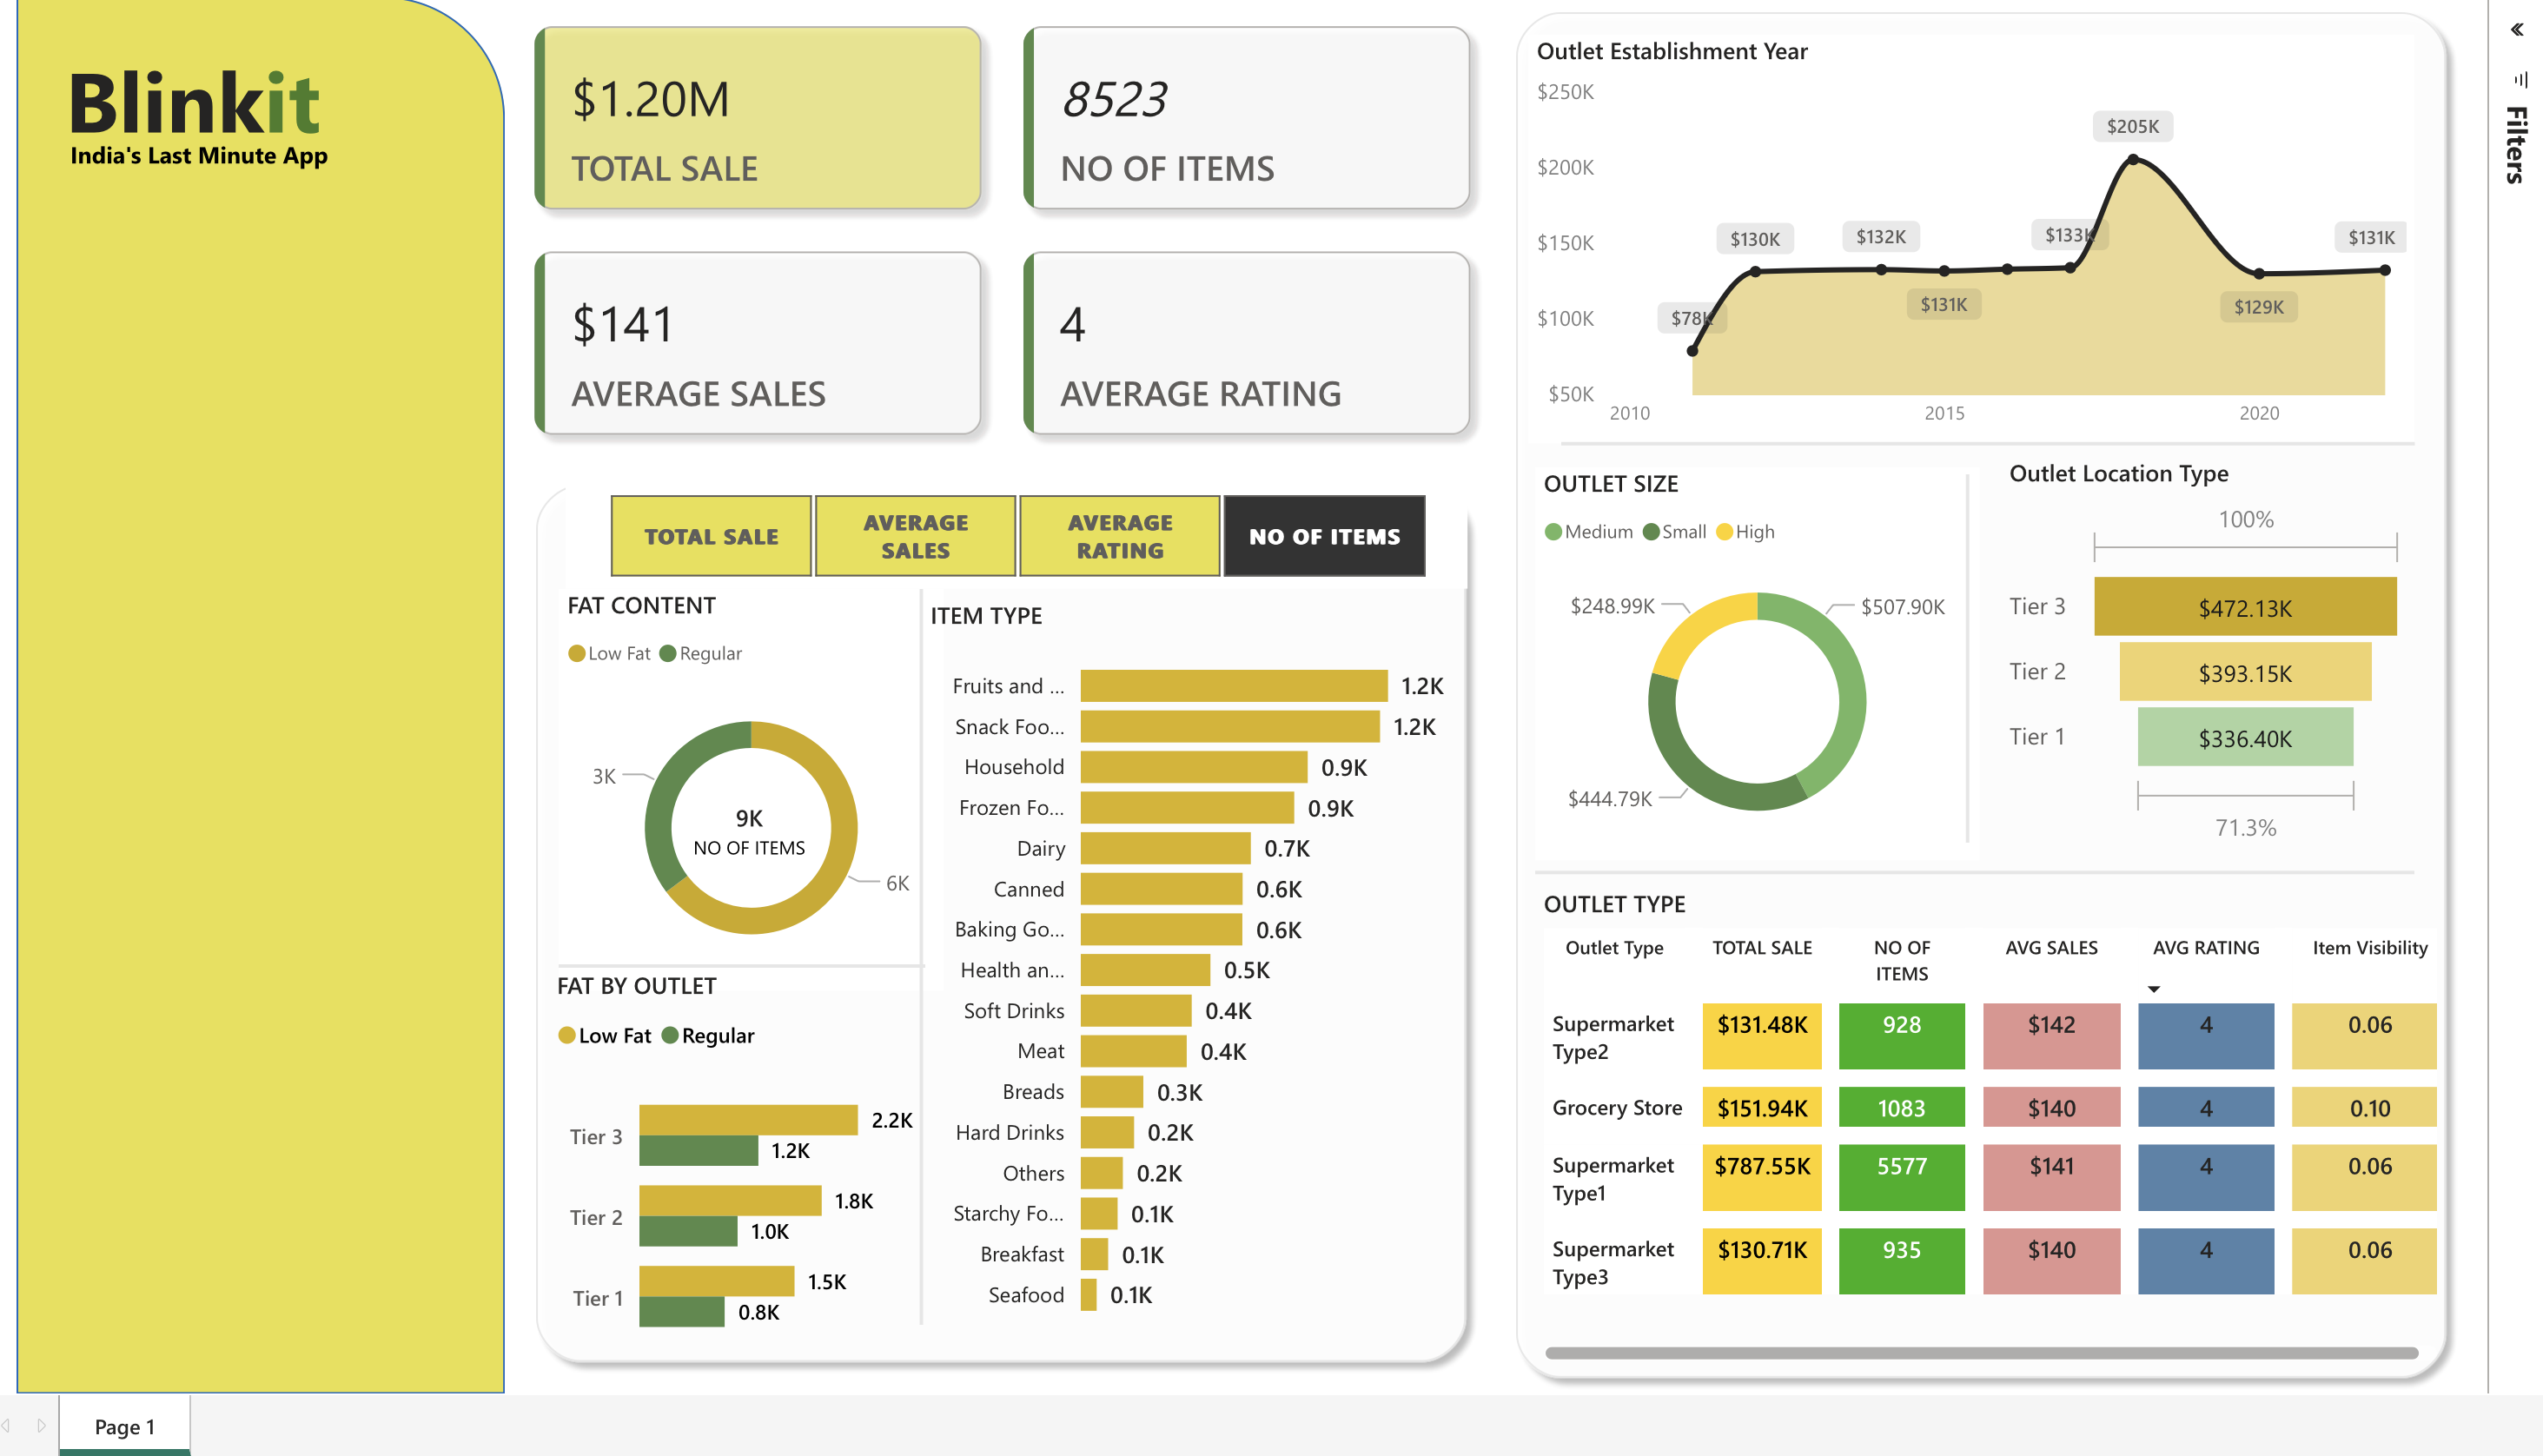

The page's visual inventory and layout, read from the dashboard file:
{"tool":"powerbi","page":{"name":"Page 1","canvas":[1400,800],"ordinal":0},"visuals":[{"type":"shape","box":[0,0,279.7,800.2],"z":0},{"type":"textbox","box":[22.6,21,190.8,130.9],"z":1000},{"type":"cardVisual","fields":{"Data":["Table.total sales","Table.NO OF ITEMS","Table.AVERAGE SALES","Table.AVERAGE RATING"]},"box":[279.7,0,570.7,270],"z":2000},{"type":"shape","box":[289,270.6,550.4,520.2],"z":3000},{"type":"donutChart","title":"FAT CONTENT","fields":{"Y":["Table.NO OF ITEMS"],"Category":["BlinkIT Grocery Data.Item Fat Content"]},"box":[310,338.9,220.7,230],"z":4000},{"type":"slicer","fields":{"Values":["Metrics.Metrics"]},"box":[314,278.5,516.3,60.4],"z":5000},{"type":"cardVisual","fields":{"Data":["Table.NO OF ITEMS"]},"box":[365.6,437.3,109.7,79.9],"z":6000},{"type":"clusteredBarChart","title":"FAT BY OUTLET","fields":{"Y":["Table.NO OF ITEMS"],"Category":["BlinkIT Grocery Data.Outlet Location Type"],"Series":["BlinkIT Grocery Data.Item Fat Content"]},"box":[304.8,557,220.7,229.9],"z":7000},{"type":"textbox","box":[22.3,76.2,165.5,44.7],"z":8000},{"type":"shape","box":[310,522.8,210.2,65.7],"z":9000},{"type":"shape","box":[492.6,338.9,51.2,421.7],"z":10000},{"type":"barChart","title":"ITEM TYPE","fields":{"Y":["Table.NO OF ITEMS"],"Category":["BlinkIT Grocery Data.Item Type"]},"box":[518.9,345.5,311.3,421.7],"z":11000},{"type":"shape","box":[849.9,0,550.4,800],"z":12000},{"type":"lineChart","title":"Outlet Establishment Year","fields":{"Category":["BlinkIT Grocery Data.Outlet Establishment Year"],"Y":["Table.TOTAL SALE"]},"box":[865.2,21.7,507.7,234.2],"z":13000},{"type":"shape","box":[884.1,220.7,488.8,70.4],"z":14000},{"type":"donutChart","title":"OUTLET SIZE ","fields":{"Y":["Table.TOTAL SALE"],"Category":["BlinkIT Grocery Data.Outlet Size"]},"box":[869.2,269.4,254.5,224.8],"z":15000},{"type":"shape","box":[1091.3,273.5,51.5,211.2],"z":16000},{"type":"funnel","title":"Outlet Location Type","fields":{"Y":["Table.TOTAL SALE"],"Category":["BlinkIT Grocery Data.Outlet Location Type"]},"box":[1136,264,236.9,227.5],"z":17000},{"type":"shape","box":[869.2,476.6,503.7,50.1],"z":18000},{"type":"pivotTable","title":"OUTLET TYPE","fields":{"Rows":["BlinkIT Grocery Data.Outlet Type"],"Values":["Table.TOTAL SALE","Table.NO OF ITEMS","Table.AVERAGE SALES","Table.AVERAGE RATING","Avg(BlinkIT Grocery Data.Item Visibility)"]},"box":[869.2,510.4,521.3,276.2],"z":19000}]}

Visuals, with their boxes on the page's 1400x800 design canvas (x1, y1, x2, y2). These are canvas units, not pixel positions in the 2543x1456 screenshot, which may show the page scaled, cropped or inside an application window:
shape: detection(0, 0, 280, 800)
textbox: detection(23, 21, 213, 152)
cardVisual - Table.total sales x Table.NO OF ITEMS: detection(280, 0, 850, 270)
shape: detection(289, 271, 839, 791)
"FAT CONTENT" donutChart: detection(310, 339, 531, 569)
slicer - Metrics.Metrics: detection(314, 278, 830, 339)
cardVisual - Table.NO OF ITEMS: detection(366, 437, 475, 517)
"FAT BY OUTLET" clusteredBarChart: detection(305, 557, 526, 787)
textbox: detection(22, 76, 188, 121)
shape: detection(310, 523, 520, 588)
shape: detection(493, 339, 544, 761)
"ITEM TYPE" barChart: detection(519, 346, 830, 767)
shape: detection(850, 0, 1400, 800)
"Outlet Establishment Year" lineChart: detection(865, 22, 1373, 256)
shape: detection(884, 221, 1373, 291)
"OUTLET SIZE " donutChart: detection(869, 269, 1124, 494)
shape: detection(1091, 274, 1143, 485)
"Outlet Location Type" funnel: detection(1136, 264, 1373, 492)
shape: detection(869, 477, 1373, 527)
"OUTLET TYPE" pivotTable: detection(869, 510, 1390, 787)
